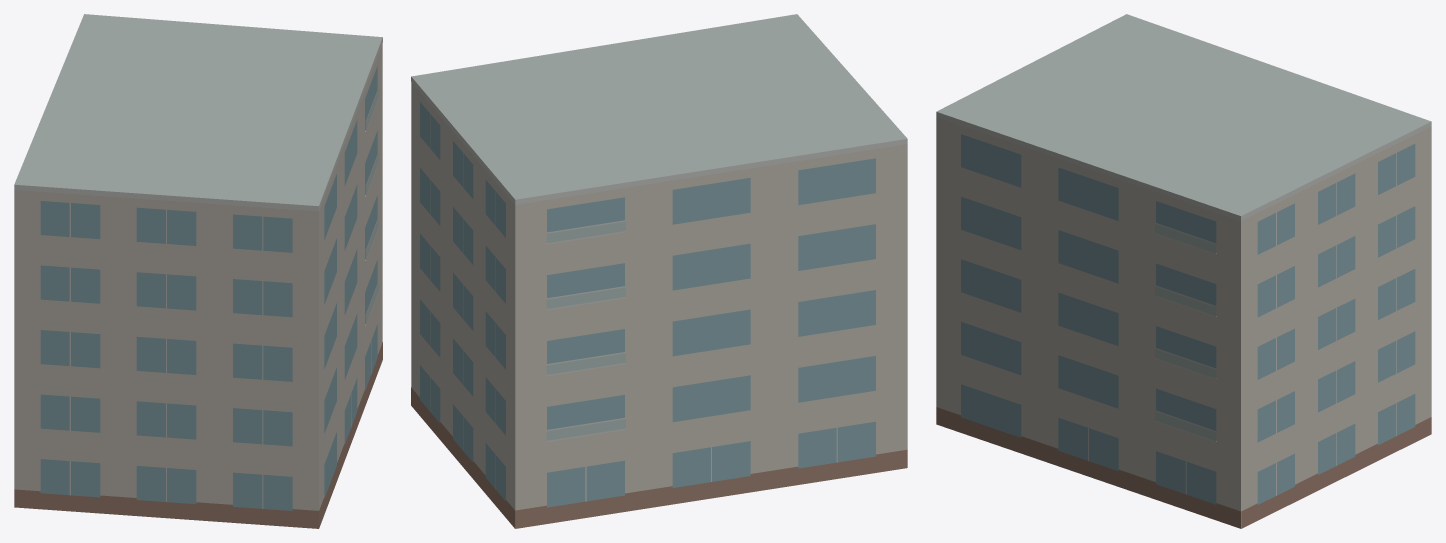
Rendered from survey-upis-32754213.glb.
The picture shows the model from 3 angles, left to right: view 1: azimuth 30°, elevation 25°; view 2: azimuth 150°, elevation 25°; view 3: azimuth 270°, elevation 25°; orthographic projection. The views are drawn at different scales.
Visible parts, largest first — view 1: survey-upis-32754213.tmp; view 2: survey-upis-32754213.tmp; view 3: survey-upis-32754213.tmp.
Part boxes in pixels (x1=…): survey-upis-32754213.tmp: x1=14, y1=14, x2=382, y2=528; survey-upis-32754213.tmp: x1=411, y1=14, x2=907, y2=528; survey-upis-32754213.tmp: x1=936, y1=14, x2=1431, y2=528.
Bounding box in the file's own units: 21.16 × 15.25 × 21.91.
